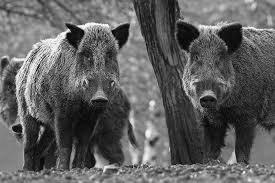wildboar: (15, 20, 132, 172), (174, 18, 275, 165)
